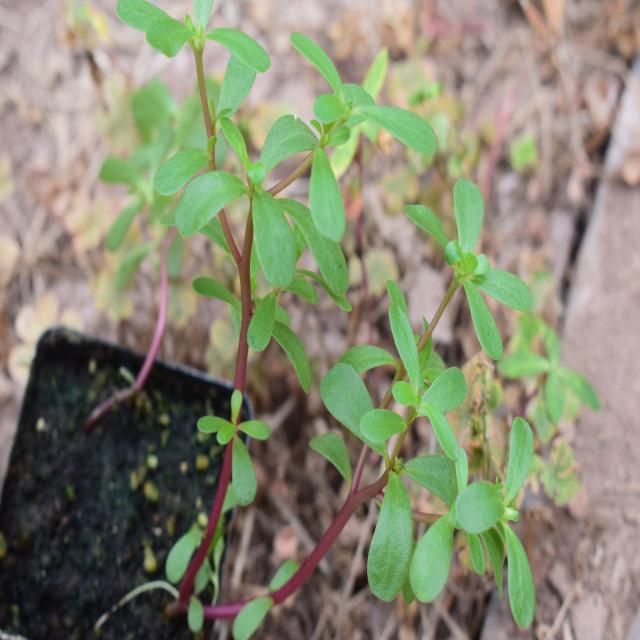purslane: (119, 9, 551, 594)
